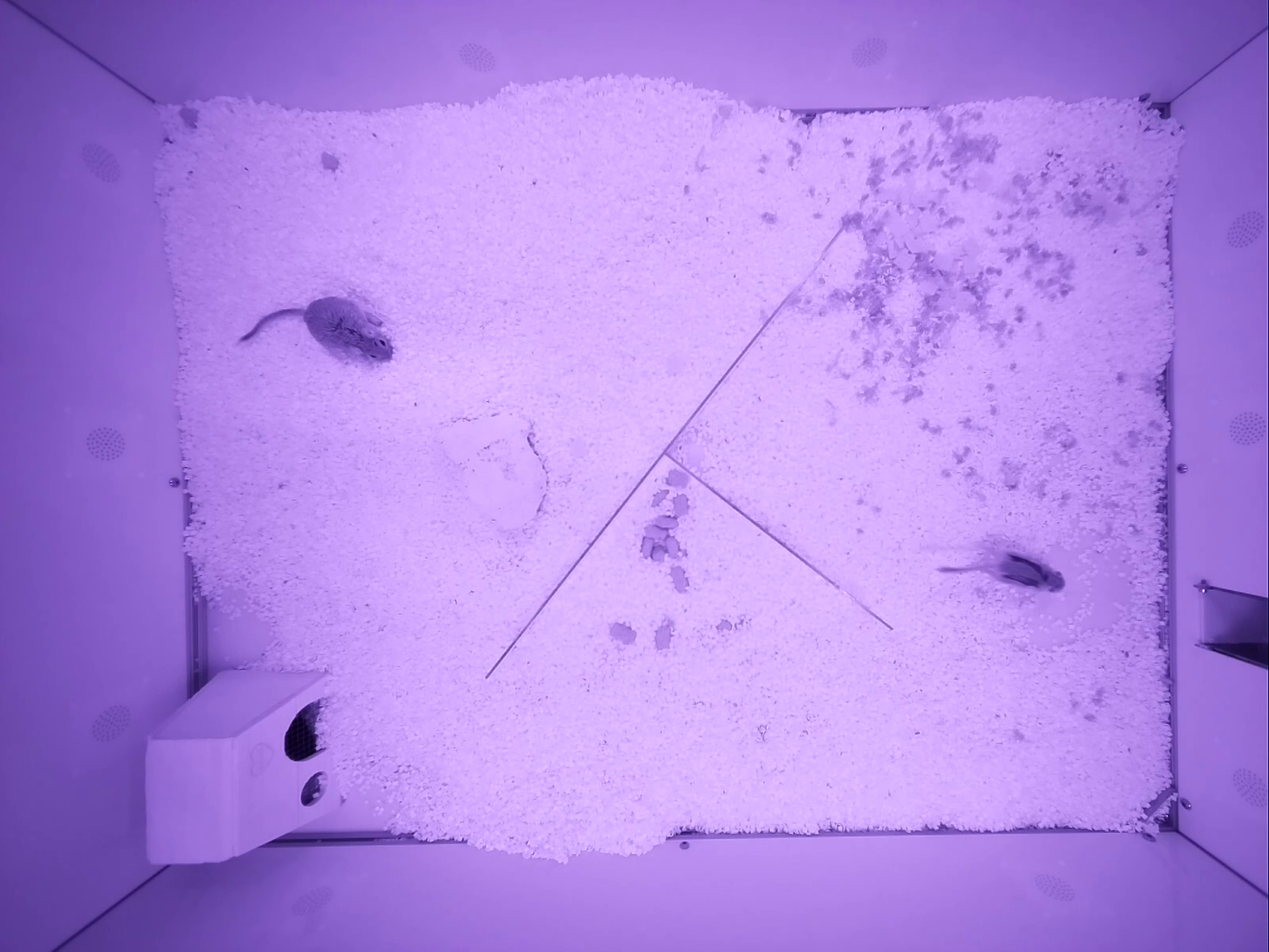adult_back: (240, 297, 392, 359), (939, 551, 1064, 591)
